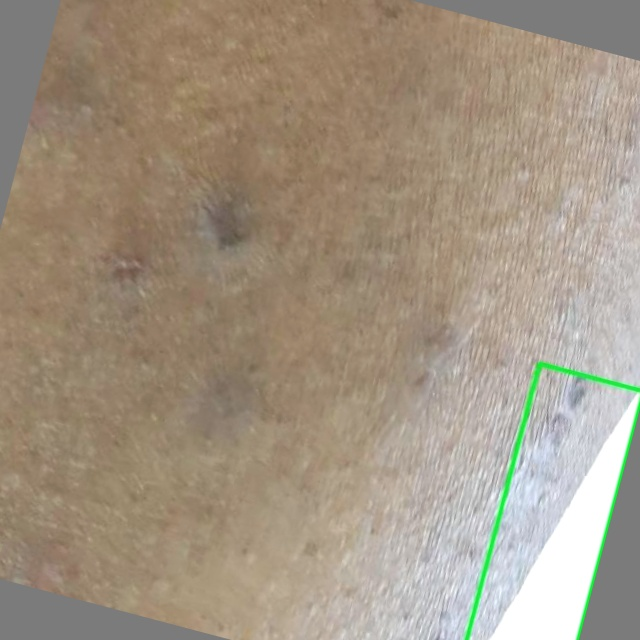Atopic Dermatitis: (466, 363, 639, 639)
